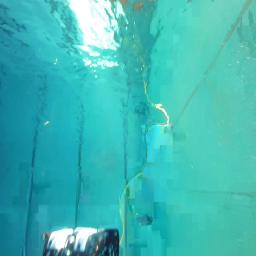Full: (136, 213, 153, 226)
front: (41, 226, 120, 256)
